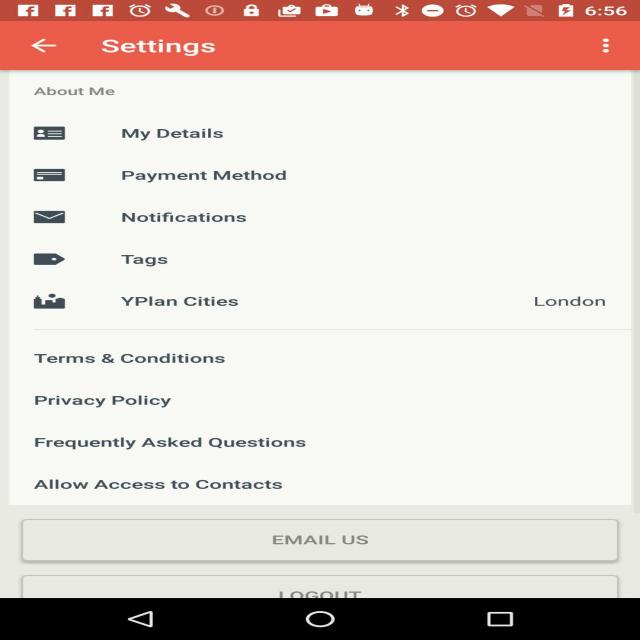button: (20, 518, 621, 562), (22, 574, 620, 599), (22, 30, 76, 61), (580, 30, 629, 64)
icon: (24, 116, 82, 152), (28, 154, 80, 188), (28, 246, 82, 274), (26, 292, 84, 318), (24, 203, 78, 230)
text: (32, 430, 315, 454), (112, 166, 334, 194), (30, 351, 249, 374), (30, 476, 294, 495), (113, 289, 261, 322), (110, 123, 259, 152), (92, 34, 237, 62), (115, 206, 268, 232), (34, 391, 195, 414), (259, 529, 399, 554), (110, 247, 203, 275), (26, 84, 146, 104), (516, 294, 626, 314), (266, 588, 382, 599)
